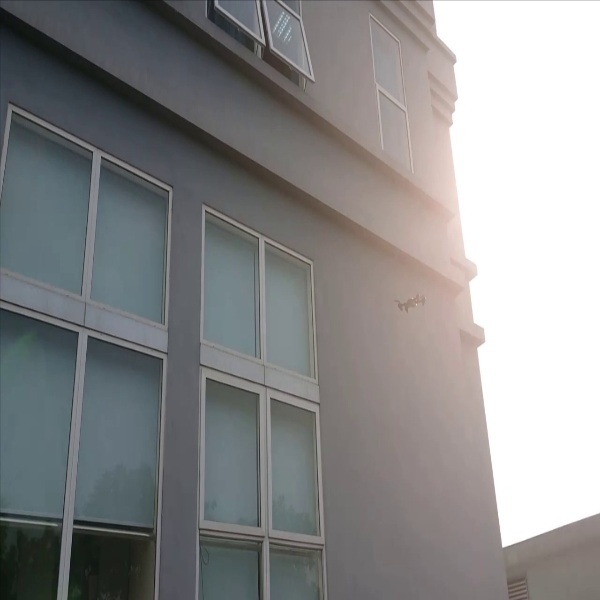drone: (392, 283, 433, 320)
